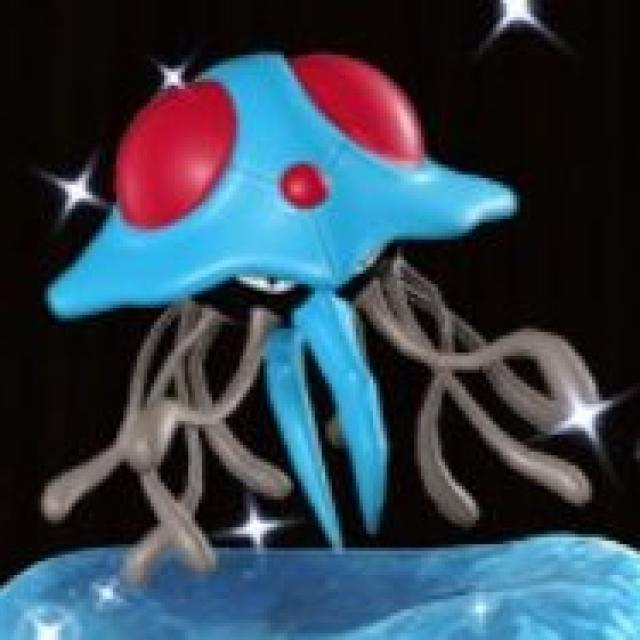Tentacruel: (84, 46, 494, 546)
